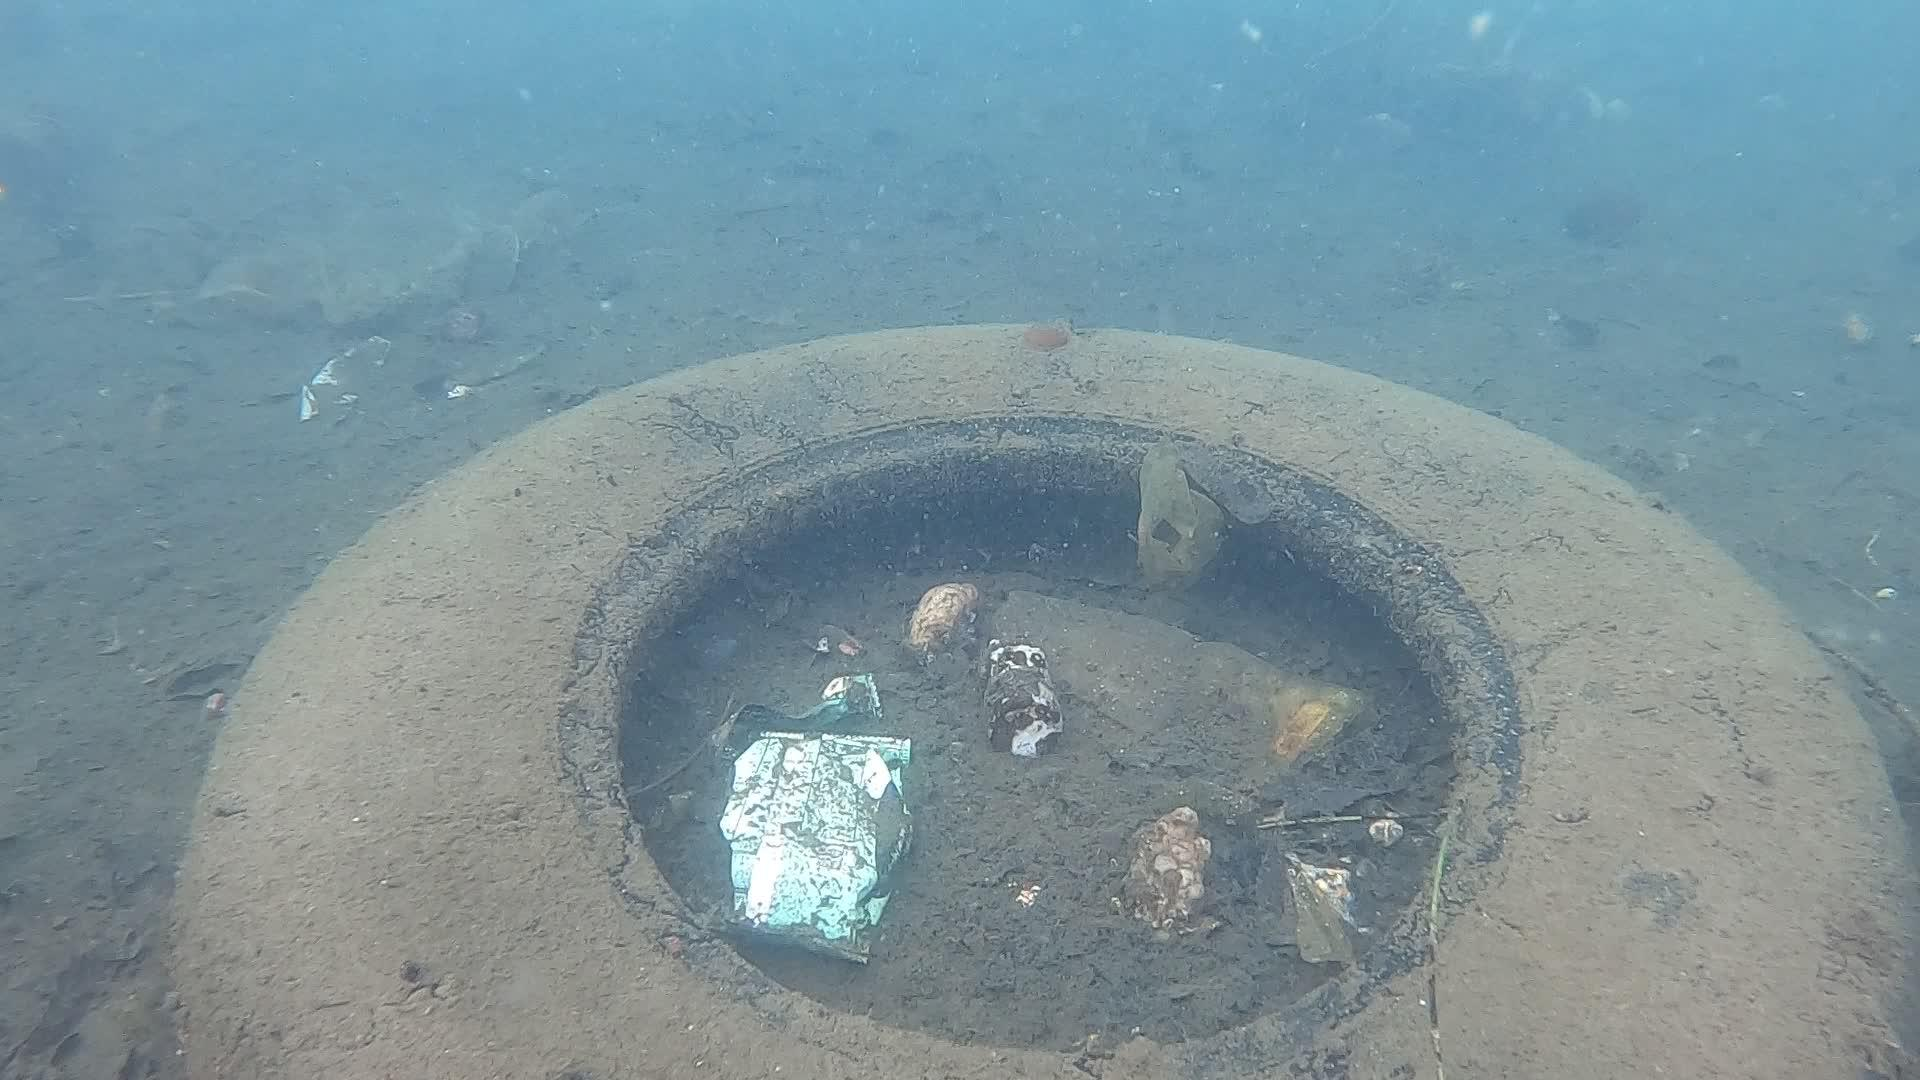tire: (167, 320, 1920, 1080)
